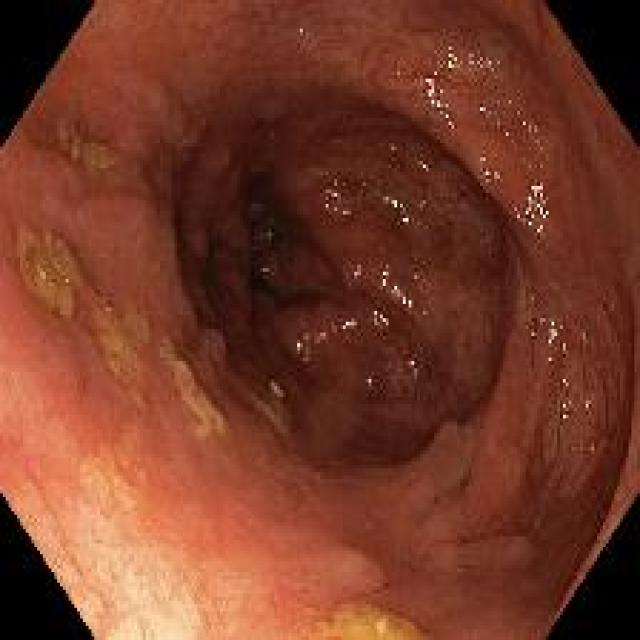ulcerative-colitis-grade-1: (24, 2, 640, 597)
